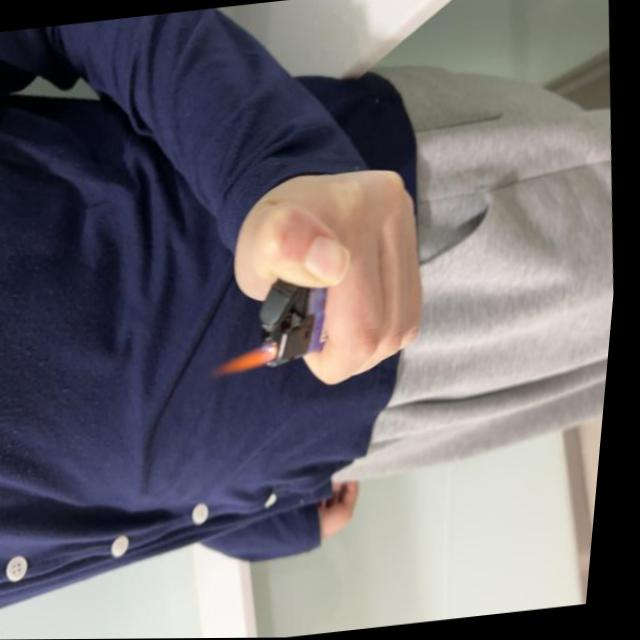Fire: (214, 339, 284, 381)
